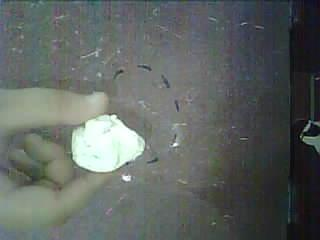paper: (72, 114, 144, 172)
